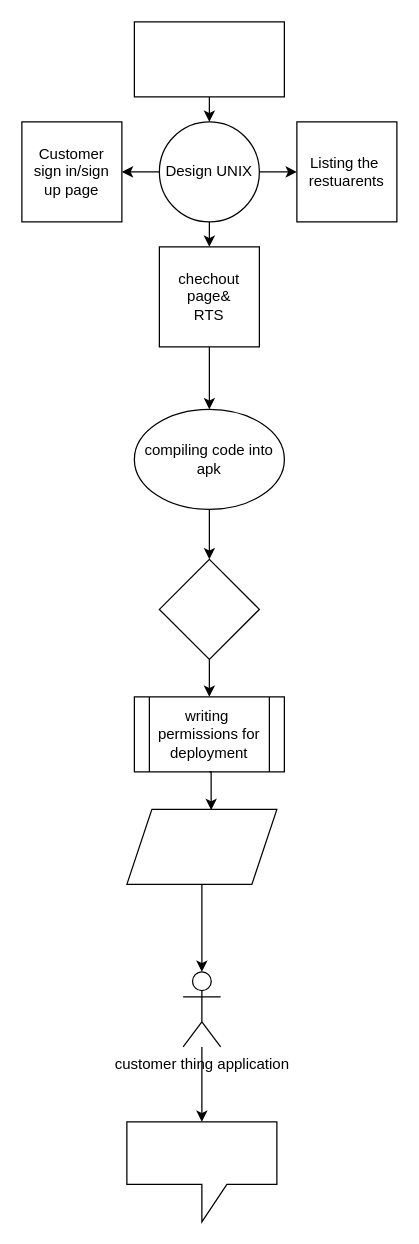
The diagram is 419 pixels wide and 1244 high, and some of its shapes have lost their labels. The shapes that lost their labels are listed below. From the top down, each one's box as (x1, y1, x2, y2) in pixels, then its label:
(133, 21, 284, 97): RK food
(158, 558, 259, 659): no bugs found
(126, 808, 277, 884): pushing aok to playstore
(126, 1121, 277, 1222): NO feeedback recieved
